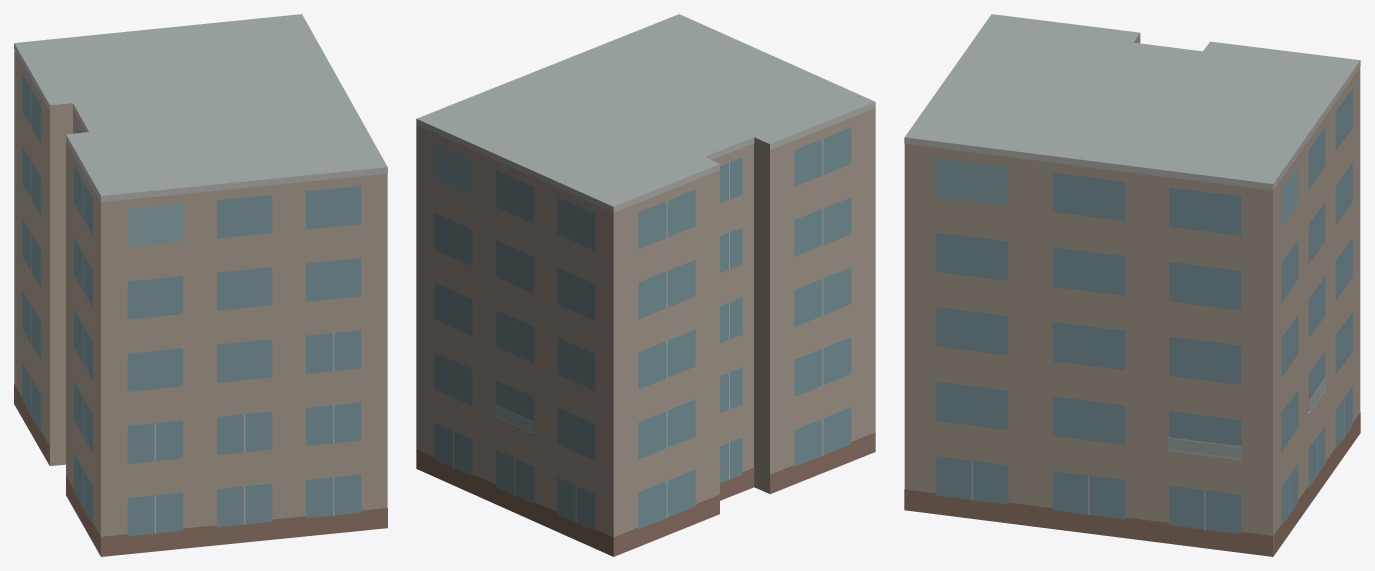
The model's file is survey-upis-32947112.glb.
The picture shows the model from 3 angles, left to right: view 1: azimuth 30°, elevation 25°; view 2: azimuth 150°, elevation 25°; view 3: azimuth 270°, elevation 25°; orthographic projection. The views are drawn at different scales.
Parts seen in each view (by area): view 1: survey-upis-32947112.tmp; view 2: survey-upis-32947112.tmp; view 3: survey-upis-32947112.tmp.
Part boxes in pixels (left/top/right/bottom): survey-upis-32947112.tmp: left=14, top=14, right=387, bottom=556; survey-upis-32947112.tmp: left=416, top=14, right=875, bottom=556; survey-upis-32947112.tmp: left=904, top=14, right=1360, bottom=556.
Size of the model in its own units: 13.9 by 14.2 by 15.75.
